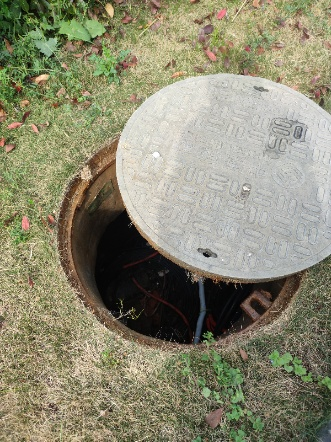uncovered: (56, 72, 331, 351)
